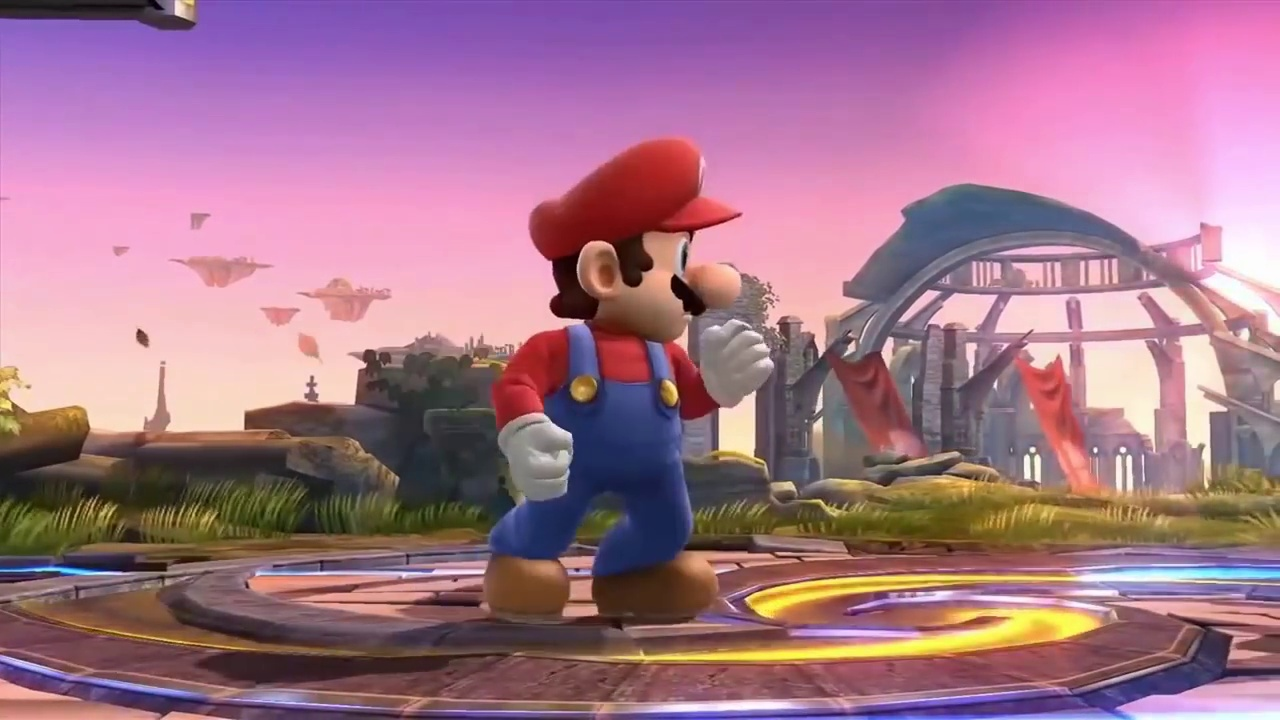Mario: (482, 136, 771, 619)
